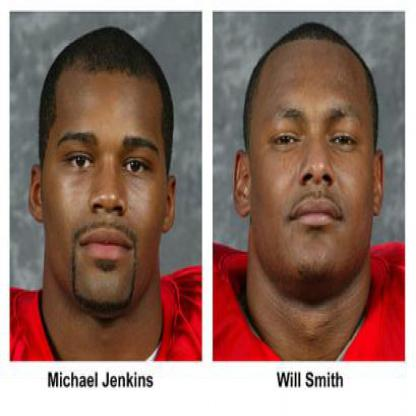face: (42, 29, 173, 322), (250, 25, 377, 294)
